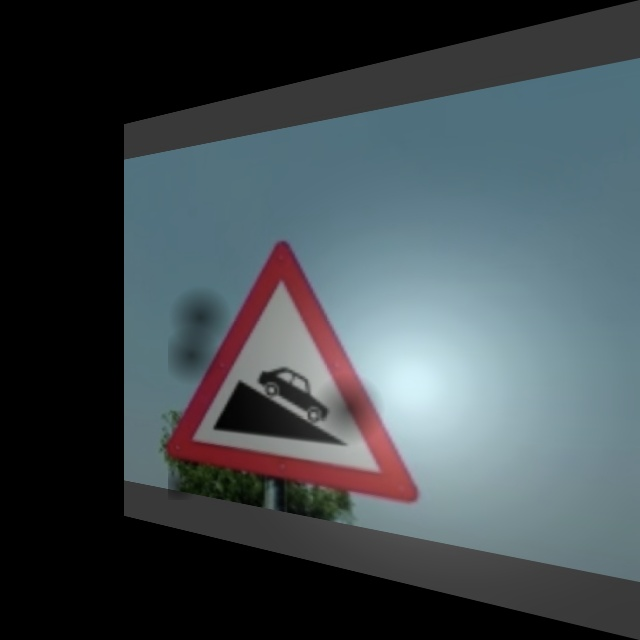Steep_Descent: (168, 234, 414, 500)
